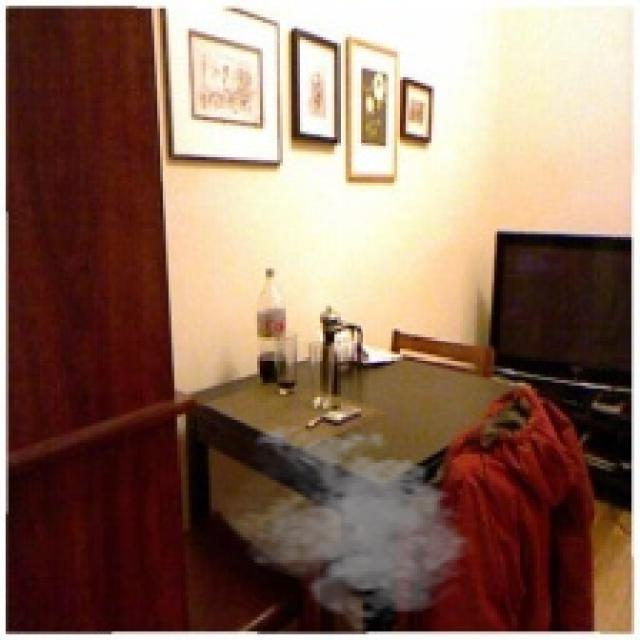smoke: (220, 420, 477, 634)
